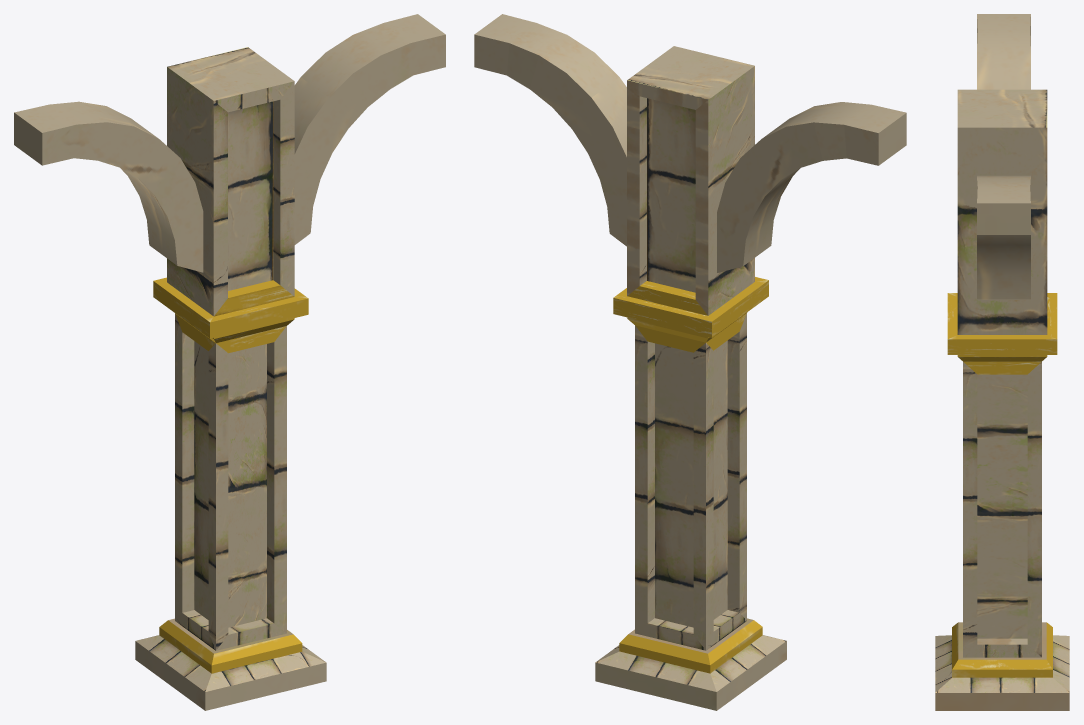
File: Pilar.fbx
3 views of the same model, side by side, from view 1: azimuth 30°, elevation 25°; view 2: azimuth 150°, elevation 25°; view 3: azimuth 270°, elevation 25° (orthographic). The views are drawn at different scales.
Visible parts, largest first — view 1: Pilar.001; view 2: Pilar.001; view 3: Pilar.001.
Part boxes in pixels (left/top/right/bottom): Pilar.001: left=14, top=14, right=445, bottom=710; Pilar.001: left=474, top=14, right=906, bottom=710; Pilar.001: left=935, top=14, right=1069, bottom=710.
Size of the model in its own units: 453 by 639 by 136.
